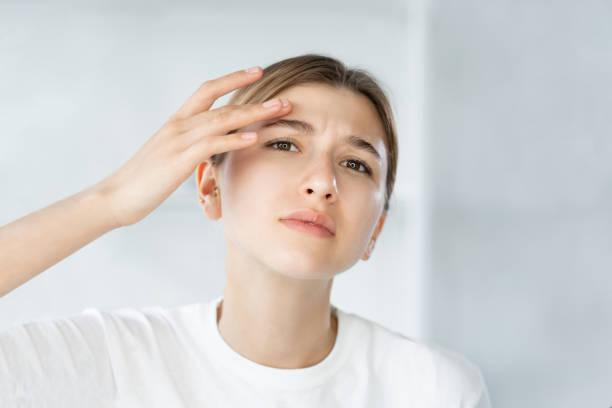Oily-Skin: (12, 134, 269, 201), (361, 212, 420, 226), (316, 111, 344, 139), (294, 250, 322, 274), (250, 178, 269, 201)
